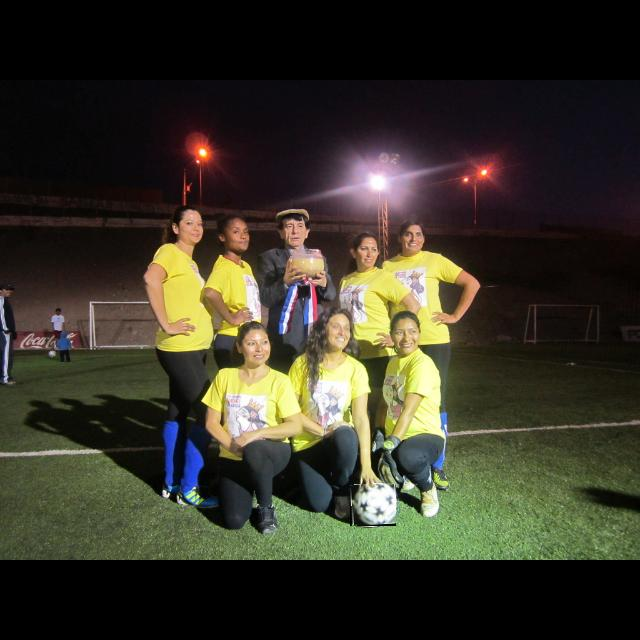Football: (350, 484, 396, 526)
